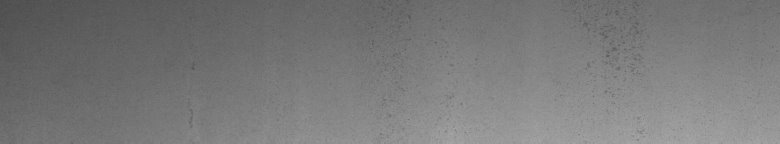ib: (584, 10, 632, 95)
